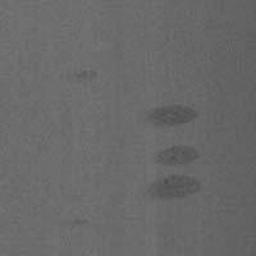Oil spot: (143, 173, 204, 202), (142, 102, 201, 129), (150, 142, 201, 168), (58, 67, 101, 86), (60, 211, 93, 232)
